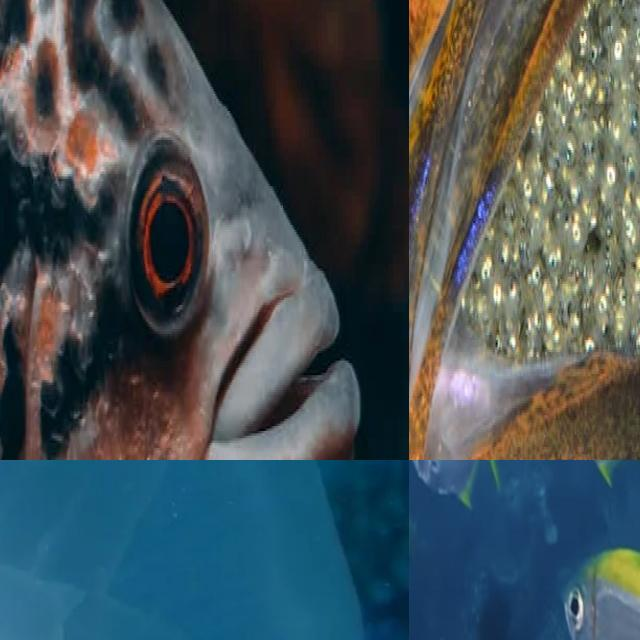fish: (0, 0, 409, 460), (409, 0, 640, 460)
